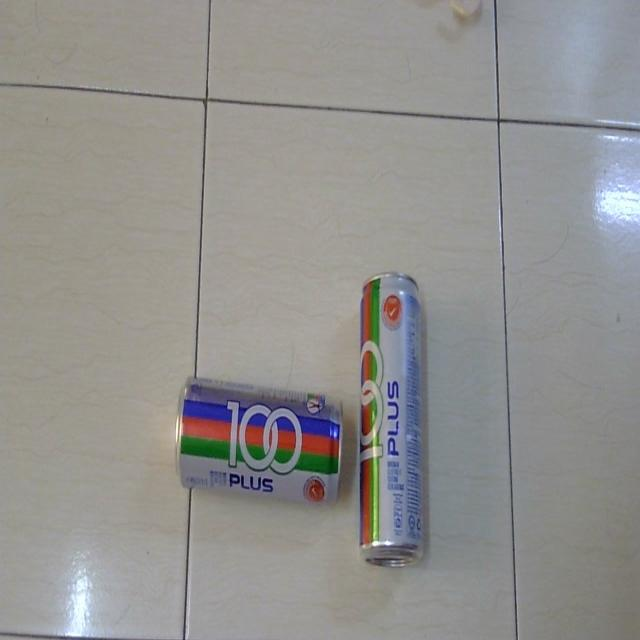metal_laydown_0rotation: (167, 371, 347, 531)
metal_laydown_90rotation: (350, 270, 440, 568)
